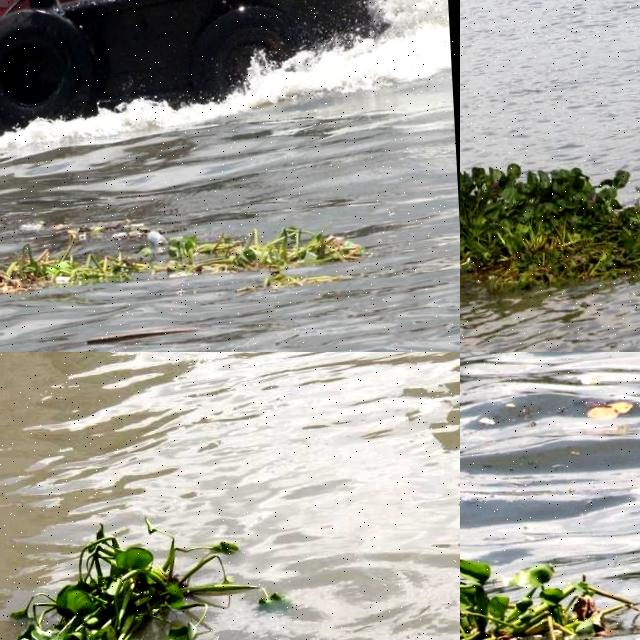water-hyacinth: (1, 512, 292, 640), (461, 131, 640, 304), (461, 546, 640, 640), (160, 210, 358, 271), (1, 222, 137, 299), (1, 214, 25, 254)
